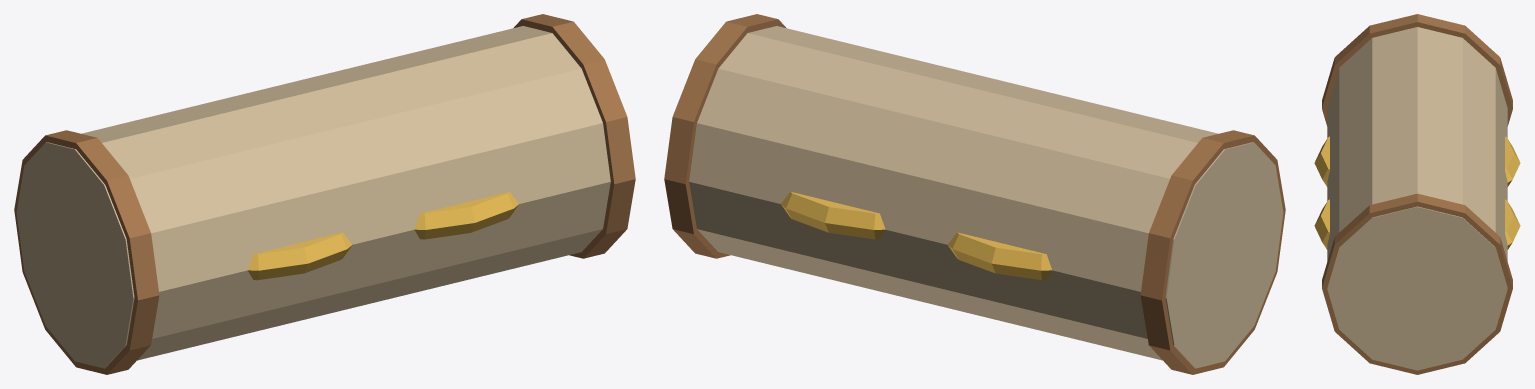
File: scroll.glb
The picture shows the model from 3 angles, left to right: view 1: azimuth 30°, elevation 25°; view 2: azimuth 150°, elevation 25°; view 3: azimuth 270°, elevation 25°; orthographic projection. The views are drawn at different scales.
Parts seen in each view (by area): view 1: rolled_parchment, wood_end_-0.2, wood_end_0.2, seal_band_0.07, seal_band_-0.07; view 2: rolled_parchment, wood_end_-0.2, wood_end_0.2, seal_band_0.07, seal_band_-0.07; view 3: rolled_parchment, wood_end_0.2, wood_end_-0.2, seal_band_-0.07, seal_band_0.07.
Part boxes in pixels (left/top/right/bottom): rolled_parchment: left=16, top=26, right=610, bottom=368; wood_end_-0.2: left=14, top=130, right=159, bottom=374; wood_end_0.2: left=513, top=14, right=635, bottom=258; seal_band_0.07: left=414, top=191, right=518, bottom=239; seal_band_-0.07: left=247, top=232, right=352, bottom=280; rolled_parchment: left=689, top=26, right=1283, bottom=368; wood_end_-0.2: left=1140, top=130, right=1285, bottom=374; wood_end_0.2: left=664, top=14, right=786, bottom=258; seal_band_0.07: left=781, top=191, right=885, bottom=239; seal_band_-0.07: left=947, top=232, right=1052, bottom=280; rolled_parchment: left=1327, top=27, right=1507, bottom=370; wood_end_0.2: left=1322, top=193, right=1512, bottom=374; wood_end_-0.2: left=1322, top=14, right=1512, bottom=126; seal_band_-0.07: left=1314, top=136, right=1520, bottom=186; seal_band_0.07: left=1314, top=199, right=1520, bottom=249.
Bounding box in the file's own units: 0.42 × 0.18 × 0.194.
